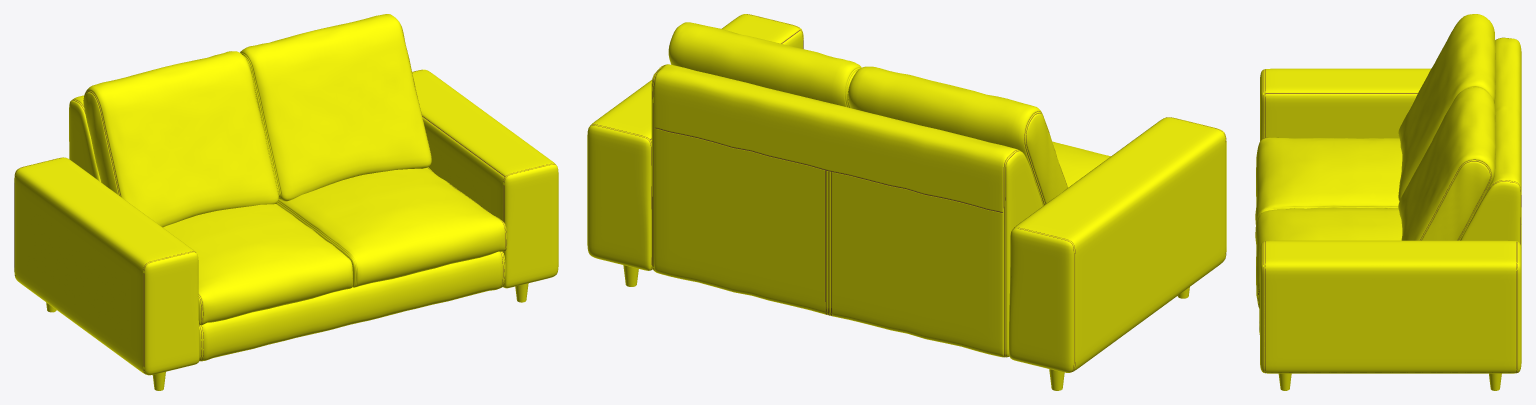
3 renders of one model, left to right at view 1: azimuth 30°, elevation 25°; view 2: azimuth 150°, elevation 25°; view 3: azimuth 270°, elevation 25°, orthographic. The views are drawn at different scales.
Parts seen in each view (by area): view 1: bodyred39, rightarm39, leftarm39, woodleg39; view 2: bodyred39, rightarm39, leftarm39, woodleg39; view 3: bodyred39, leftarm39, rightarm39, woodleg39.
Boxes of the visible parts, x1,y1,x2,y2 form: bodyred39: [69, 14, 507, 361]; rightarm39: [14, 157, 199, 375]; leftarm39: [412, 69, 558, 288]; woodleg39: [46, 283, 528, 390]; bodyred39: [651, 22, 1110, 357]; rightarm39: [1009, 117, 1226, 372]; leftarm39: [587, 14, 803, 270]; woodleg39: [623, 265, 1189, 390]; bodyred39: [1255, 14, 1521, 334]; leftarm39: [1260, 240, 1521, 373]; rightarm39: [1260, 68, 1430, 141]; woodleg39: [1278, 373, 1501, 390].
Bounding box in the file's own units: 1.64 × 0.8454 × 0.9321.
9 materials, 6 textured.
